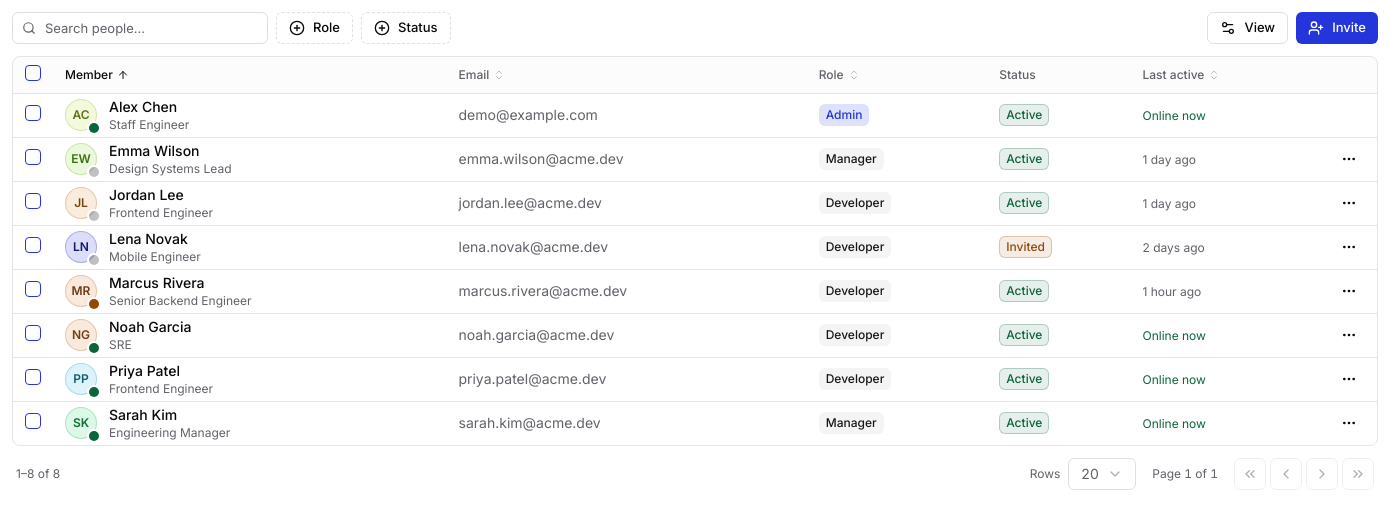
Scenario: TeamTable › changes a role optimistically and keeps it after the server confirms
Click the button named "actions for jordan lee" at (1349, 203), box [1333,187,1365,219]
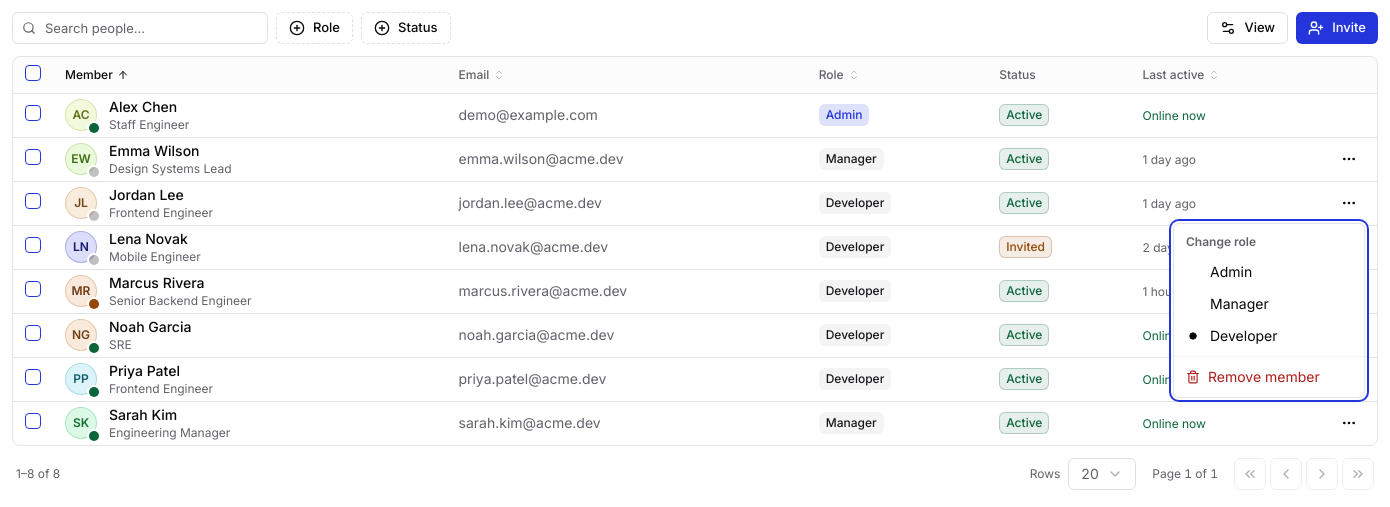
Click the menu item "Manager" at (1239, 304), box [1210,295,1269,312]
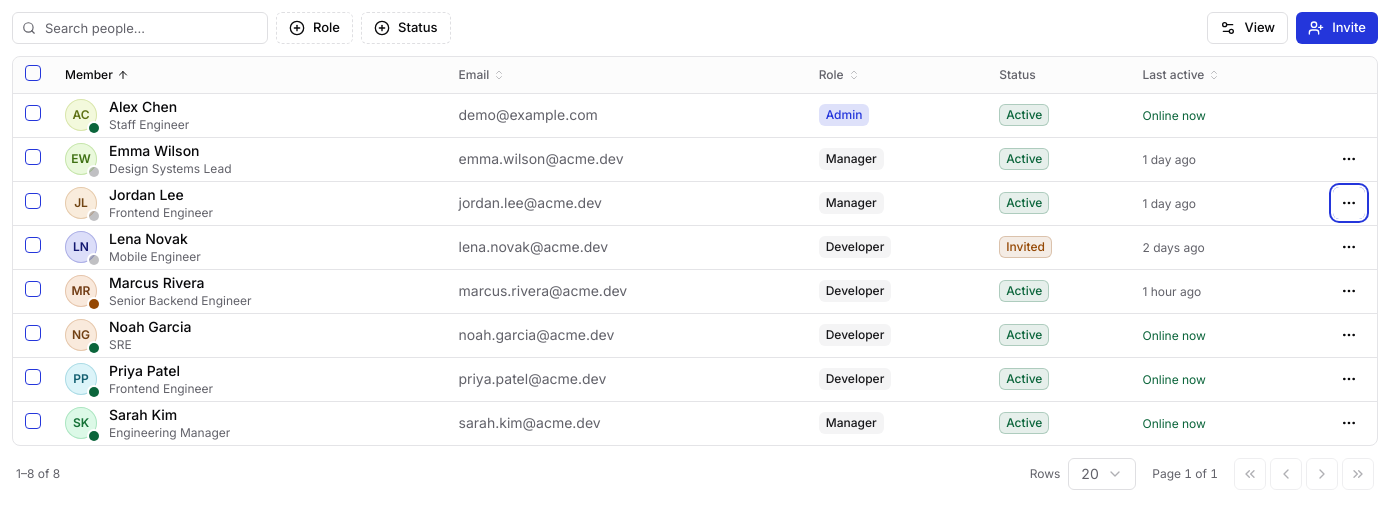
Expected: the 2nd text "Manager" is shown, [819,192,884,214]
